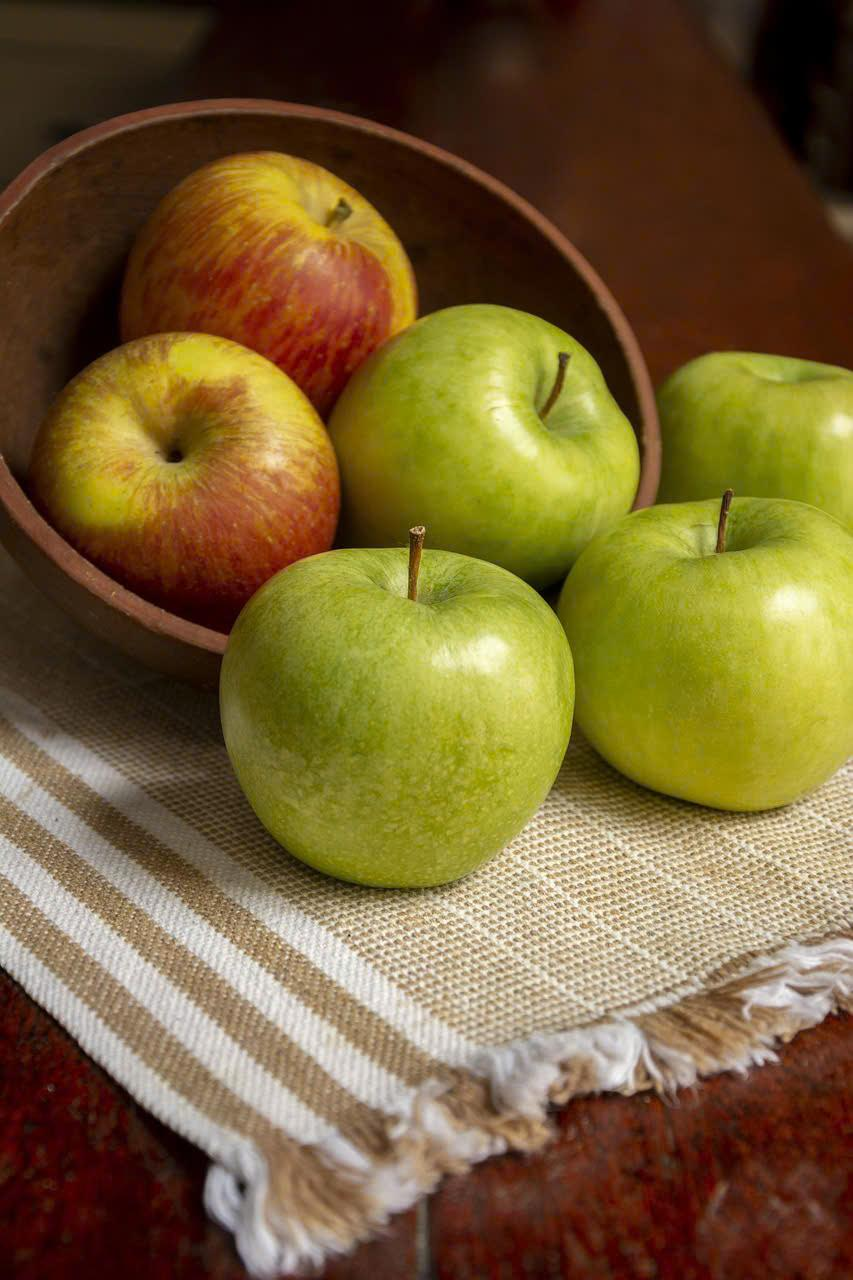apple: (202, 532, 610, 887), (562, 488, 853, 830), (332, 293, 647, 571), (38, 325, 345, 606), (120, 142, 438, 354)
